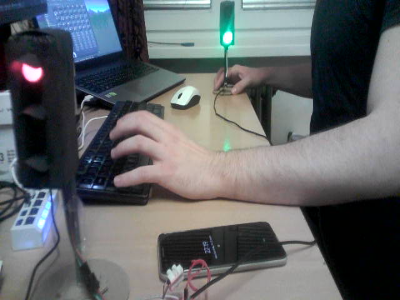trafficlight_green: (220, 1, 235, 47)
trafficlight_red: (16, 34, 66, 184)
